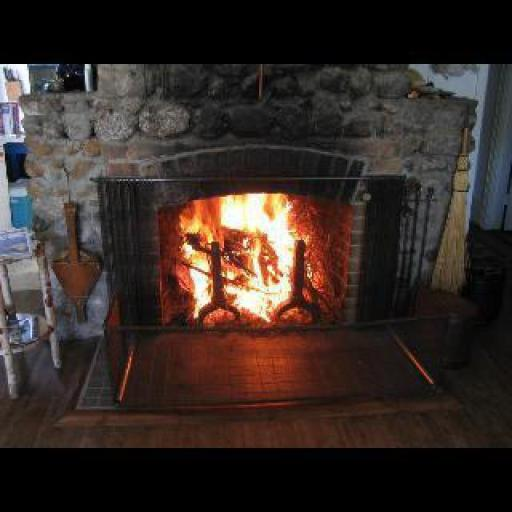smoke: (174, 194, 320, 322)
